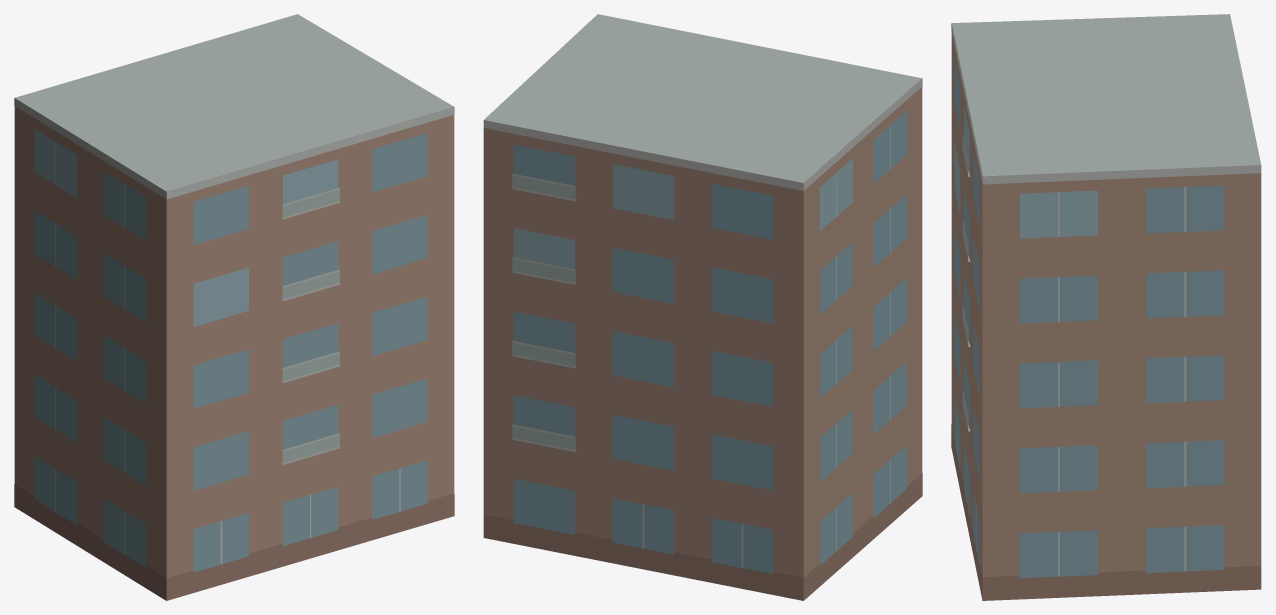
The model's file is survey-upis-32982119.glb.
3 views of the same model, side by side, from view 1: azimuth 30°, elevation 25°; view 2: azimuth 150°, elevation 25°; view 3: azimuth 270°, elevation 25° (orthographic). The views are drawn at different scales.
Parts seen in each view (by area): view 1: survey-upis-32982119.tmp; view 2: survey-upis-32982119.tmp; view 3: survey-upis-32982119.tmp.
Part boxes in pixels (x1,y1,x2,y2): survey-upis-32982119.tmp: (14,14,454,600); survey-upis-32982119.tmp: (483,14,922,600); survey-upis-32982119.tmp: (951,14,1261,600).
Bounding box in the file's own units: 10.51 × 12.8 × 8.48.
